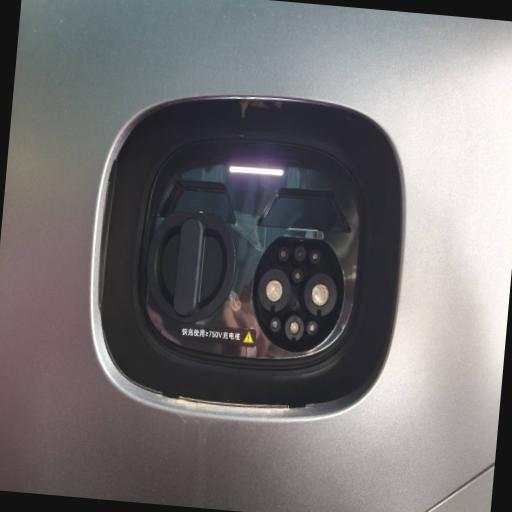DC_charging_port: (246, 228, 352, 361)
DC_hole: (255, 266, 294, 316), (301, 270, 340, 320)
PE: (284, 314, 306, 344)
